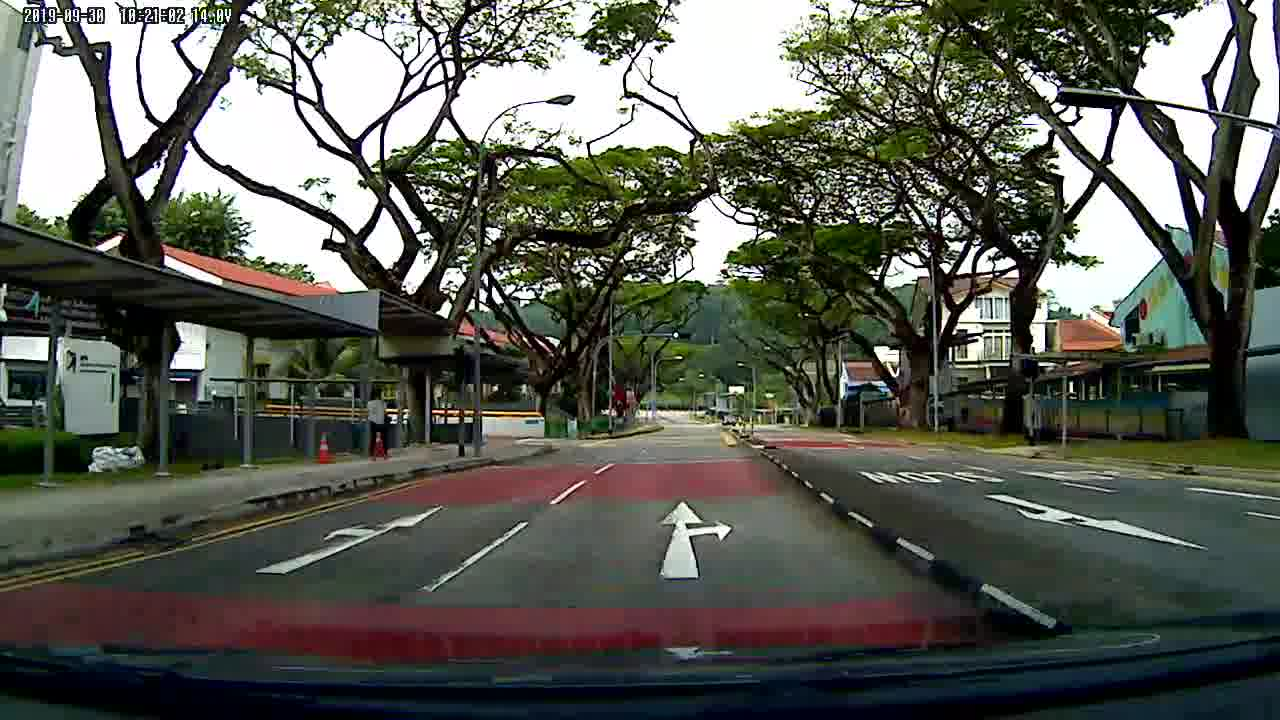car: (722, 413, 739, 426)
